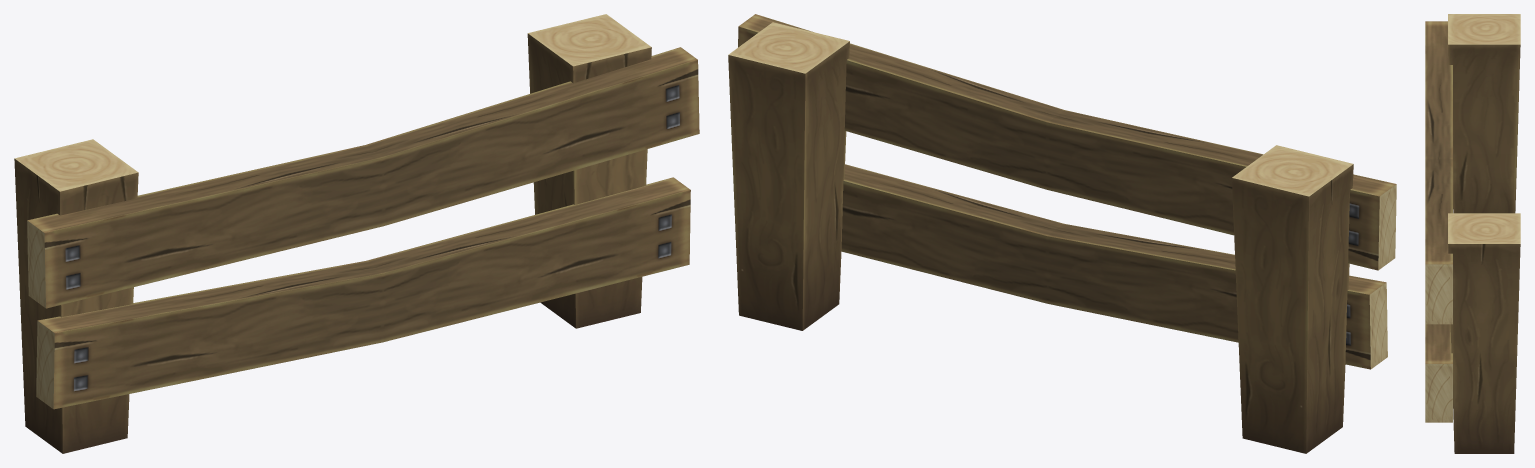
Rendered from wooden_fence_40.fbx.
3 renders of one model, left to right at view 1: azimuth 30°, elevation 25°; view 2: azimuth 150°, elevation 25°; view 3: azimuth 270°, elevation 25°, orthographic. The views are drawn at different scales.
Visible parts, largest first — view 1: wooden_fence_40:Mesh; view 2: wooden_fence_40:Mesh; view 3: wooden_fence_40:Mesh.
Boxes of the visible parts, <box> form: wooden_fence_40:Mesh: <box>14,14,699,453</box>; wooden_fence_40:Mesh: <box>728,14,1396,453</box>; wooden_fence_40:Mesh: <box>1425,14,1520,453</box>.
Size of the model in its own units: 6.92 by 2.7 by 1.09.
